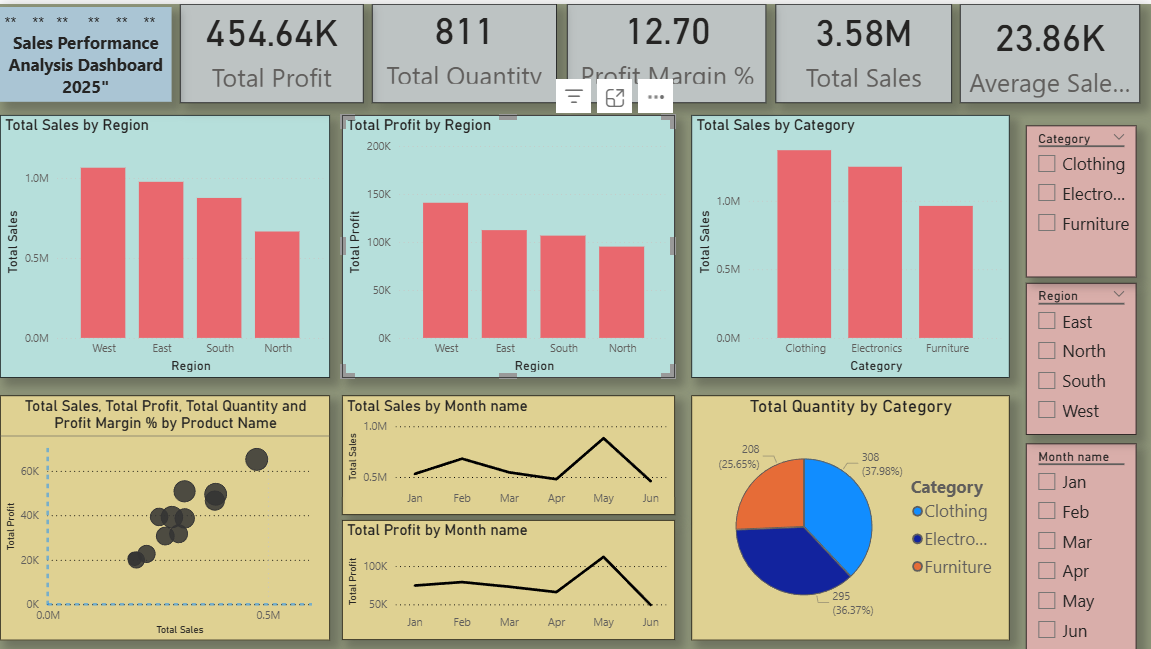

Layout of this report page (visuals, bound fields, positions):
{"tool":"powerbi","page":{"name":"Page 1","canvas":[1280,720],"ordinal":0},"visuals":[{"type":"card","fields":{"Values":["Sales_Data.Total Sales"]},"box":[861.2,0,196.2,110],"z":0},{"type":"card","fields":{"Values":["Sales_Data.Average Sales Per Order"]},"box":[1066,0,200,110],"z":4000},{"type":"clusteredColumnChart","fields":{"Category":["Sales_Data.Category"],"Y":["Sales_Data.Total Sales"]},"box":[768.3,123.3,353.3,291.7],"z":5000},{"type":"pieChart","fields":{"Category":["Sales_Data.Category"],"Y":["Sales_Data.Total Quantity"]},"box":[768.3,435,353,271.7],"z":6000},{"type":"lineChart","fields":{"Category":["Sales_Data.Month name"],"Y":["Sales_Data.Total Sales"]},"box":[380,435.7,370,132.9],"z":7000},{"type":"scatterChart","fields":{"X":["Sales_Data.Total Sales"],"Y":["Sales_Data.Total Profit"],"Size":["Sales_Data.Total Quantity"],"Category":["Sales_Data.Product Name"]},"box":[0,435,366.7,271.7],"z":8000},{"type":"slicer","fields":{"Values":["Sales_Data.Month name"]},"box":[1140.2,488.5,123,231],"z":9000},{"type":"slicer","fields":{"Values":["Sales_Data.Region"]},"box":[1140.2,310.3,123,169],"z":10000},{"type":"slicer","fields":{"Values":["Sales_Data.Category"]},"box":[1140.2,135.6,123,169],"z":11000},{"type":"clusteredColumnChart","fields":{"Category":["Sales_Data.Region"],"Y":["Sales_Data.Total Profit"]},"box":[380,123.3,370,291.7],"z":12000},{"type":"clusteredColumnChart","fields":{"Category":["Sales_Data.Region"],"Y":["Sales_Data.Total Sales"]},"box":[0,123.3,366.7,291.7],"z":13000},{"type":"lineChart","fields":{"Category":["Sales_Data.Month name"],"Y":["Sales_Data.Total Profit"]},"box":[380,573.3,370,133.3],"z":14000},{"type":"card","fields":{"Values":["Sales_Data.Profit Margin %"]},"box":[630,0,221.2,110],"z":14001},{"type":"card","fields":{"Values":["Sales_Data.Total Quantity"]},"box":[413.8,0,205,110],"z":14002},{"type":"card","fields":{"Values":["Sales_Data.Total Profit"]},"box":[200,0,203.8,110],"z":14003},{"type":"textbox","box":[0,4.1,190.5,105.4],"z":14005}]}

Visuals, with their boxes in screenshot pixels (x1, y1, x2, y2):
card - Sales_Data.Total Sales: bbox=[773, 9, 947, 107]
card - Sales_Data.Average Sales Per Order: bbox=[954, 9, 1132, 107]
clusteredColumnChart - Sales_Data.Category x Sales_Data.Total Sales: bbox=[690, 118, 1004, 377]
pieChart - Sales_Data.Category x Sales_Data.Total Quantity: bbox=[690, 395, 1003, 636]
lineChart - Sales_Data.Month name x Sales_Data.Total Sales: bbox=[346, 395, 674, 513]
scatterChart - Sales_Data.Total Sales x Sales_Data.Total Profit: bbox=[9, 395, 334, 636]
slicer - Sales_Data.Month name: bbox=[1020, 442, 1129, 647]
slicer - Sales_Data.Region: bbox=[1020, 284, 1129, 434]
slicer - Sales_Data.Category: bbox=[1020, 129, 1129, 279]
clusteredColumnChart - Sales_Data.Region x Sales_Data.Total Profit: bbox=[346, 118, 674, 377]
clusteredColumnChart - Sales_Data.Region x Sales_Data.Total Sales: bbox=[9, 118, 334, 377]
lineChart - Sales_Data.Month name x Sales_Data.Total Profit: bbox=[346, 517, 674, 636]
card - Sales_Data.Profit Margin %: bbox=[568, 9, 764, 107]
card - Sales_Data.Total Quantity: bbox=[376, 9, 558, 107]
card - Sales_Data.Total Profit: bbox=[186, 9, 367, 107]
textbox: bbox=[9, 13, 178, 106]
